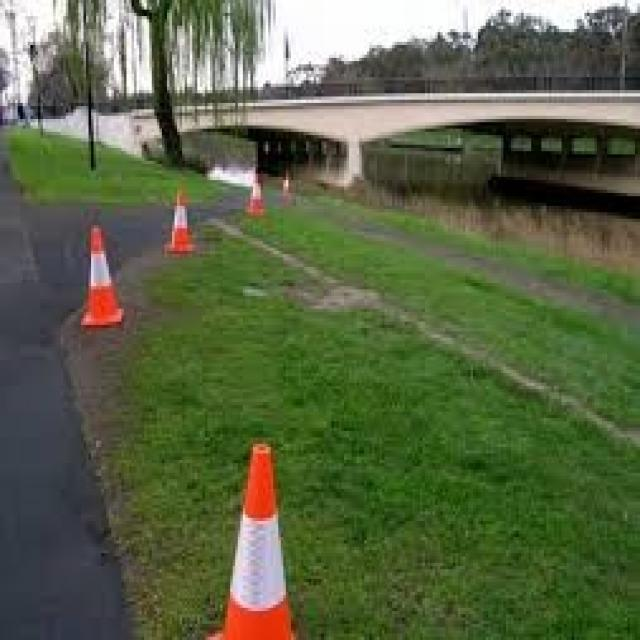Traffic-cone: (225, 439, 302, 637), (71, 222, 131, 334), (161, 185, 201, 266), (244, 170, 270, 218)
